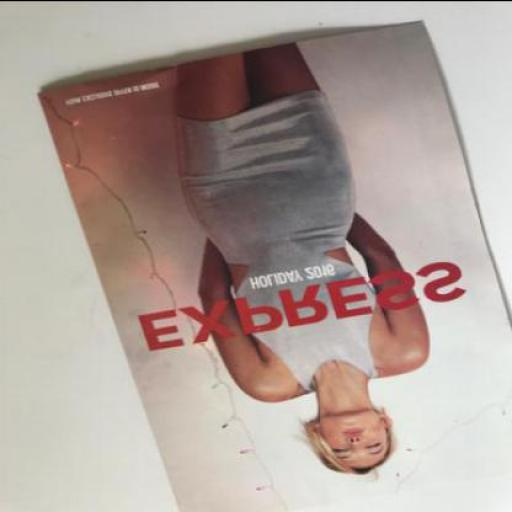paper: (37, 21, 511, 511)
